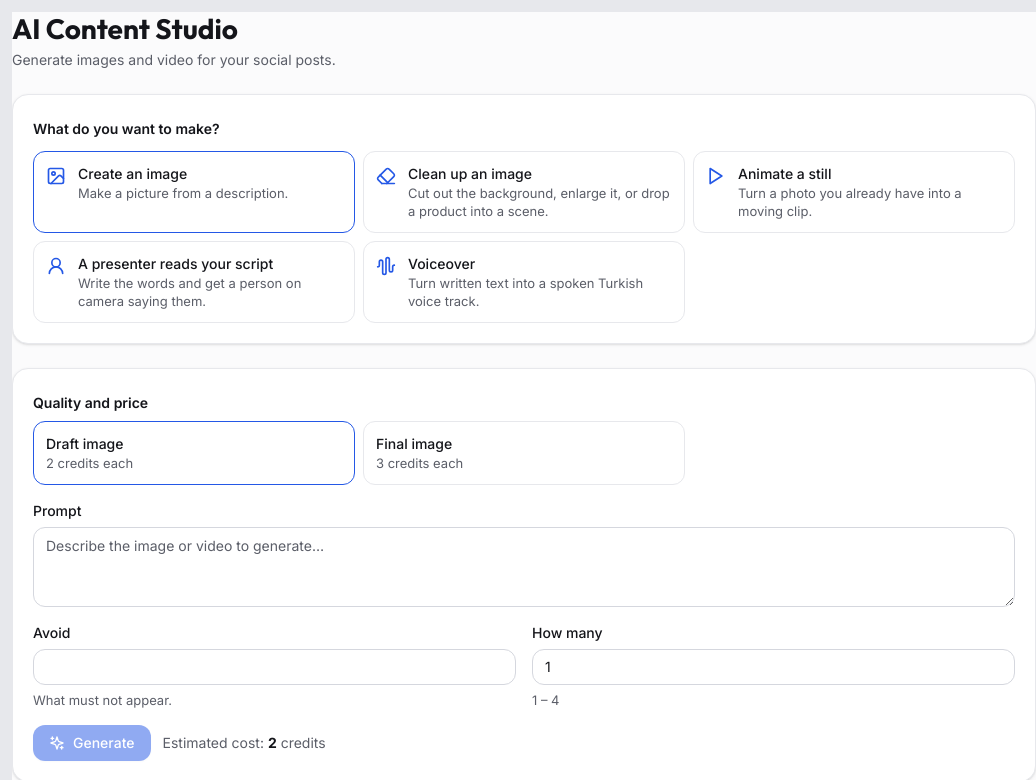
Test: AiStudioPage — technique-first, contract-driven panel › renders only the controls the chosen model publishes, and re-renders them on a tier change
Expected: the field labelled "Avoid" is shown, [33,649,516,685]
Expected: the dropdown labelled "aspect ratio" is not shown
Click the button "Final image 3 credits each" at x=414, y=443, box [363,421,685,485]
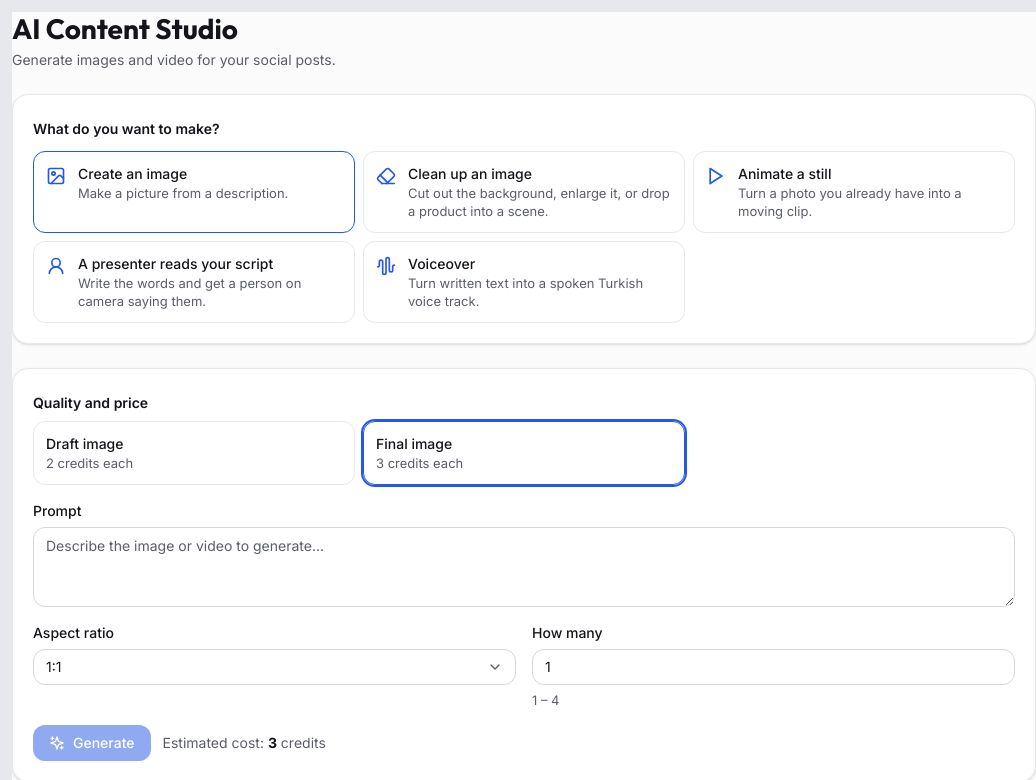
Expected: the dropdown named "aspect ratio" is shown, [33,649,516,685]
Expected: the label "Avoid" is gone
